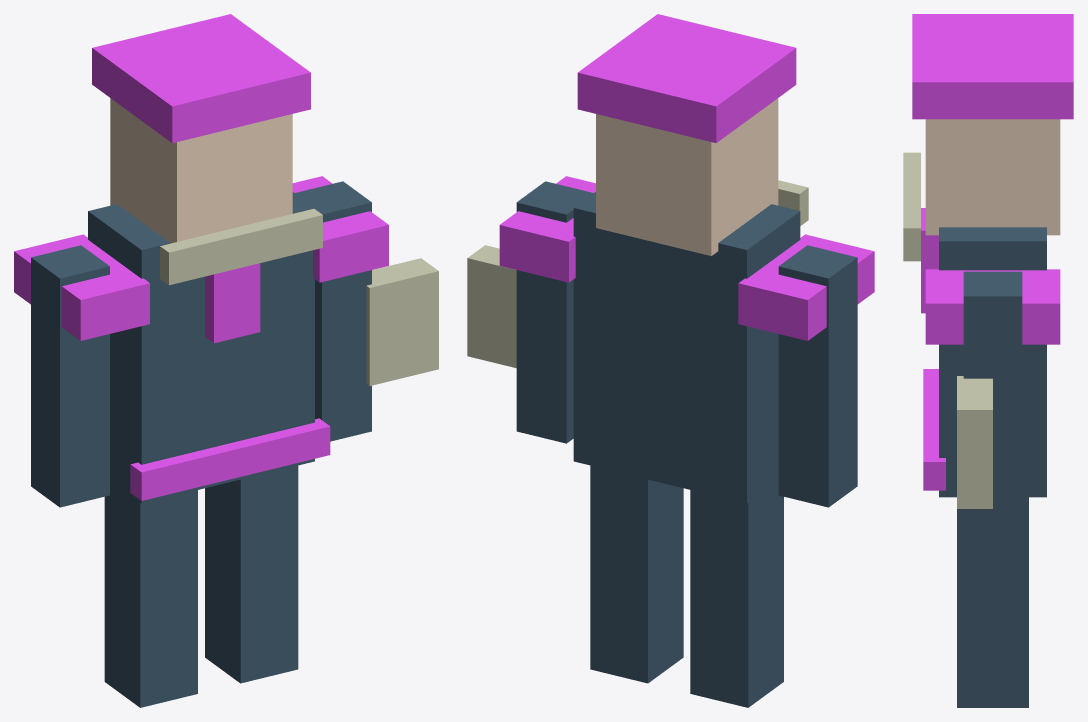
File: 12_lio_dubwater_ranger_of_cold.glb
The picture shows the model from 3 angles, left to right: view 1: azimuth 30°, elevation 25°; view 2: azimuth 150°, elevation 25°; view 3: azimuth 270°, elevation 25°; orthographic projection.
Parts seen in each view (by area): view 1: Lio Dubwater, Ranger of Cold; view 2: Lio Dubwater, Ranger of Cold; view 3: Lio Dubwater, Ranger of Cold.
Part boxes in pixels (x1,y1,x2,y2): Lio Dubwater, Ranger of Cold: [14, 14, 438, 707]; Lio Dubwater, Ranger of Cold: [467, 14, 874, 707]; Lio Dubwater, Ranger of Cold: [903, 14, 1073, 707].
Size of the model in its own units: 0.959 by 1.5 by 0.3738.
